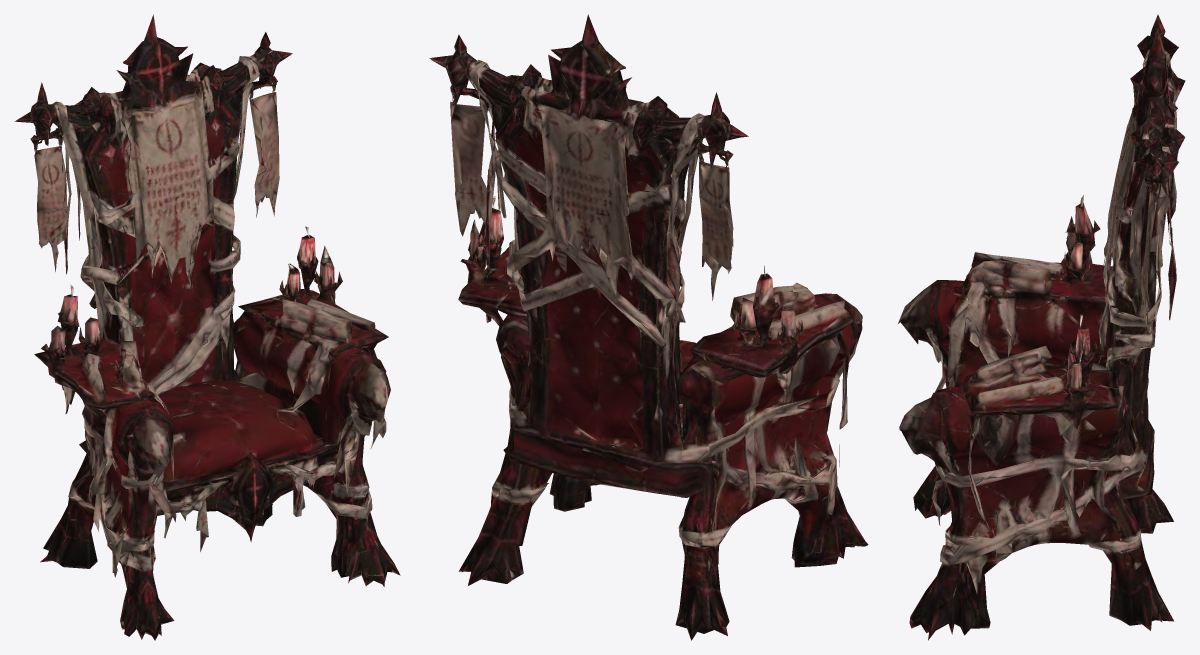
The model's file is chair.glb.
3 views of the same model, side by side, from view 1: azimuth 30°, elevation 25°; view 2: azimuth 150°, elevation 25°; view 3: azimuth 270°, elevation 25° (orthographic). The views are drawn at different scales.
Size of the model in its own units: 1.14 by 1.9 by 0.9125.
Materials: 1 (1 with a texture image).
